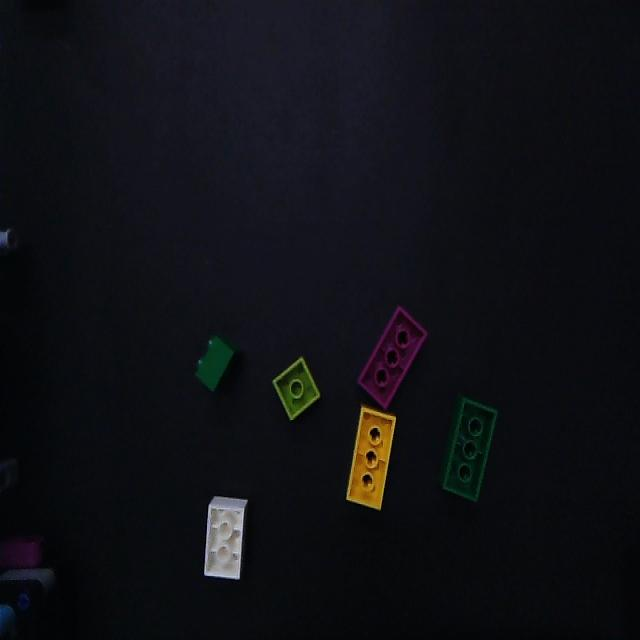lego_brick: (358, 307, 425, 407), (441, 397, 496, 500), (346, 405, 395, 509), (205, 499, 247, 579), (274, 357, 319, 417), (196, 337, 233, 389)
